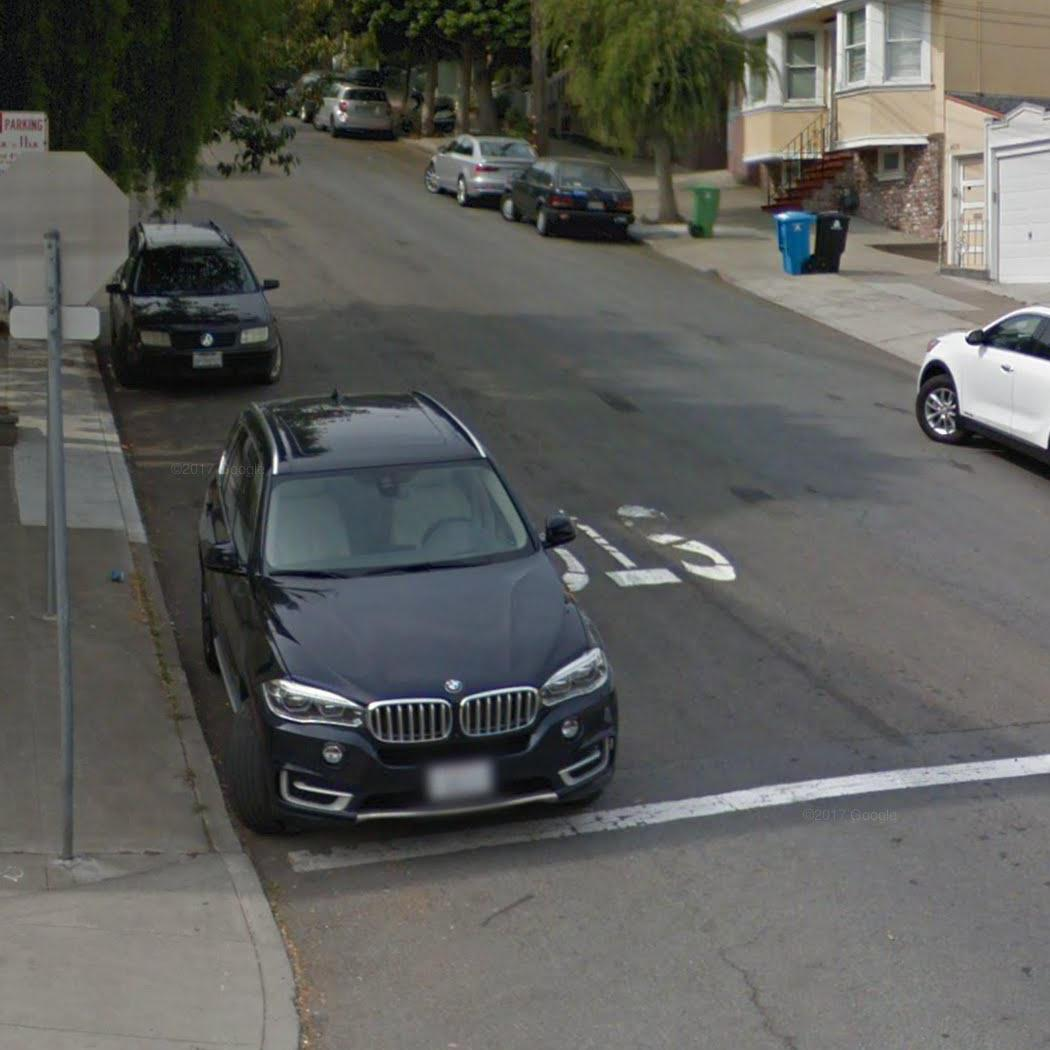No Parking: (0, 109, 50, 172)
